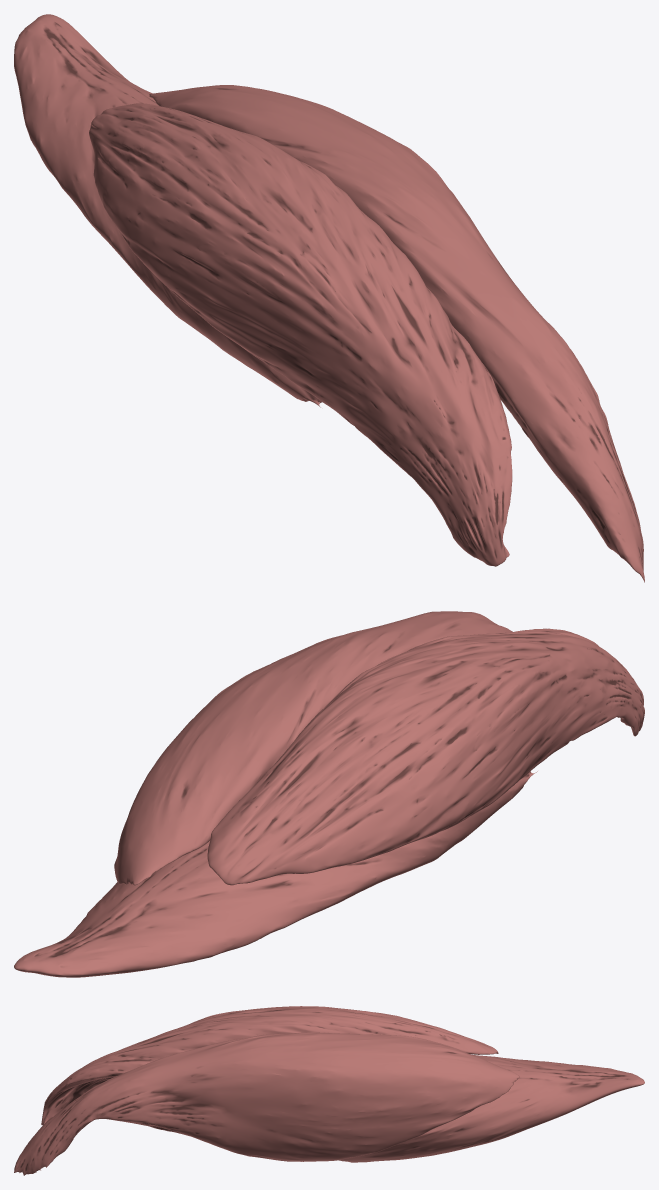
File: calf.616061a2e7.glb
3 renders of one model, top to bottom at view 1: azimuth 30°, elevation 25°; view 2: azimuth 150°, elevation 25°; view 3: azimuth 270°, elevation 25°, orthographic. The views are drawn at different scales.
Parts seen in each view (by area): view 1: FMA45960, FMA45957, FMA22558; view 2: FMA45960, FMA45957, FMA22558; view 3: FMA45957, FMA45960, FMA22558.
Boxes of the visible parts, <box> form: FMA45960: <box>89,103,512,566</box>; FMA45957: <box>149,85,644,582</box>; FMA22558: <box>14,14,322,407</box>; FMA45960: <box>207,628,644,885</box>; FMA45957: <box>114,611,512,885</box>; FMA22558: <box>14,771,537,977</box>; FMA45957: <box>14,1032,519,1175</box>; FMA45960: <box>41,1006,498,1125</box>; FMA22558: <box>339,1054,644,1162</box>.
Size of the model in its own units: 95.99 by 84.94 by 359.
